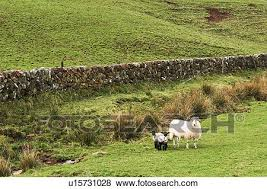sheep: (168, 117, 204, 152), (149, 130, 176, 155)
